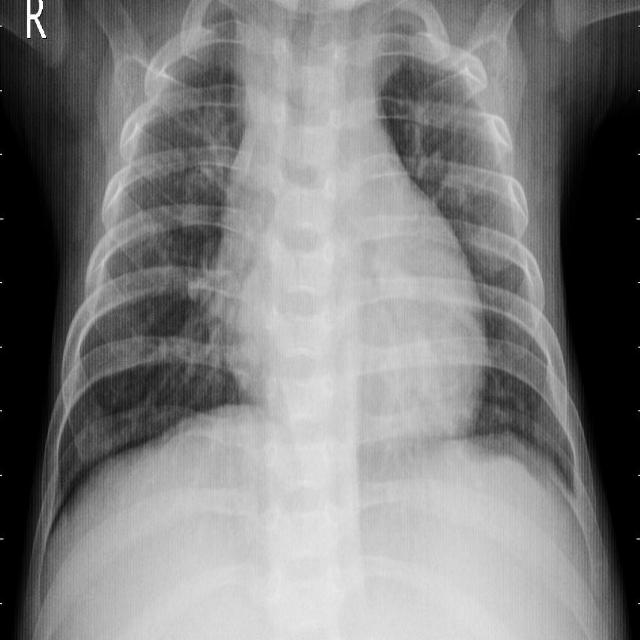low-pneumonia: (400, 71, 472, 214), (184, 97, 248, 238), (169, 264, 225, 381)
